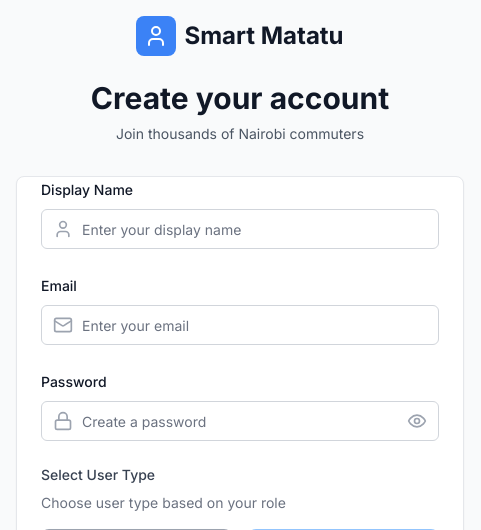
it: Signup › shows password requirements
Note: Type a password to trigger requirements display
Type "Test123" into the password field labelled "Password" at (240, 421), box [41,401,439,441]
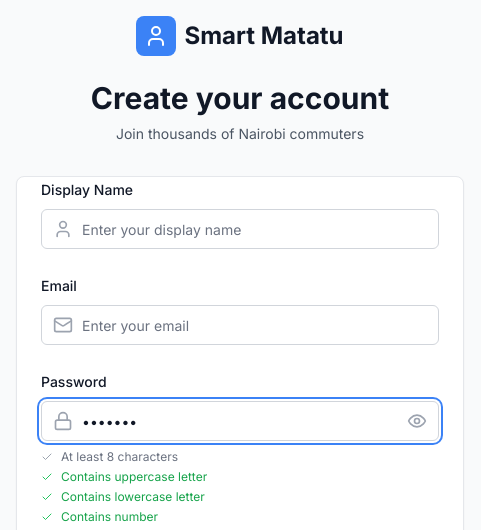
Expected: the text "At least 8 characters" is shown, [61,449,178,465]
Expected: the text "Contains uppercase letter" is shown, [61,469,207,485]
Expected: the text "Contains lowercase letter" is shown, [61,489,205,505]
